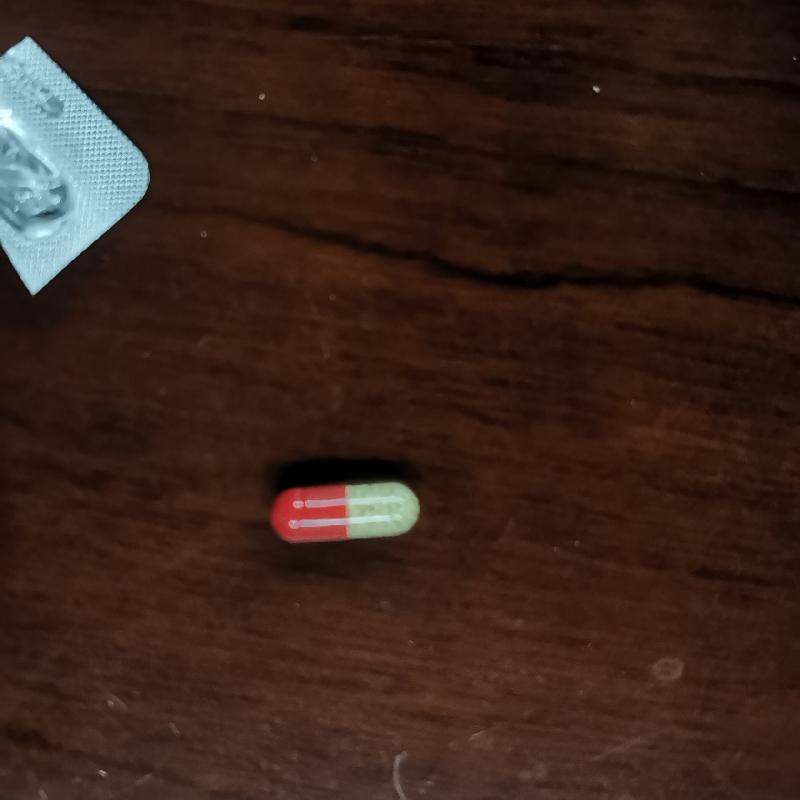pills: (261, 475, 437, 553)
